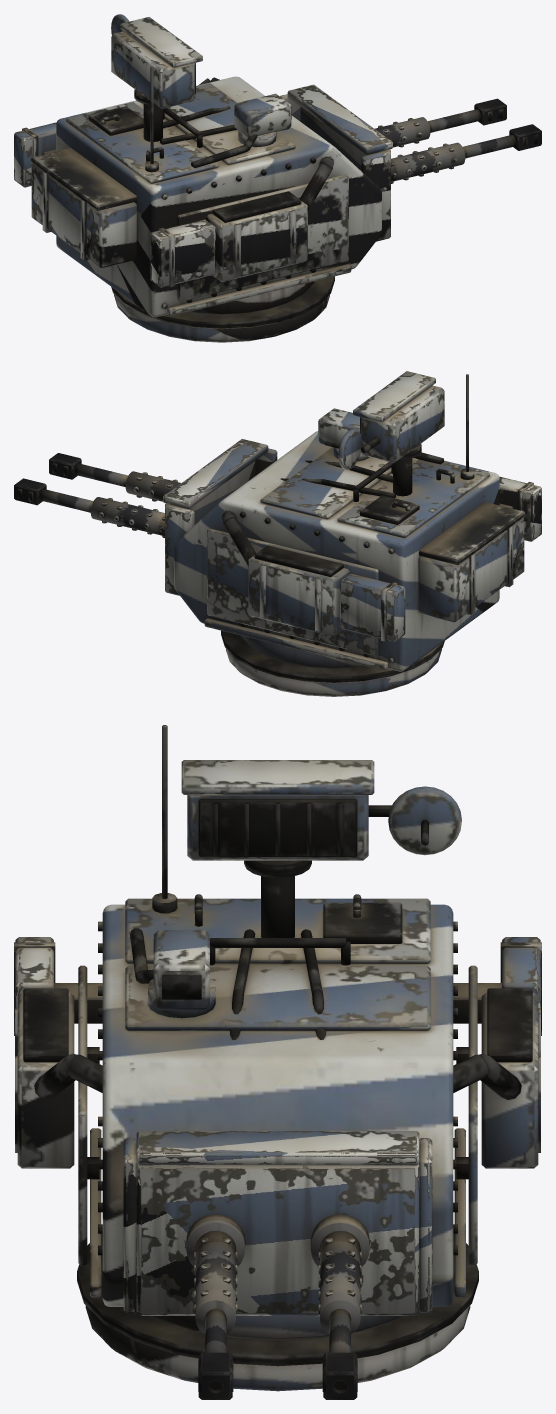
File: turret_grach_evo_dazzle.glb
3 renders of one model, top to bottom at view 1: azimuth 30°, elevation 25°; view 2: azimuth 150°, elevation 25°; view 3: azimuth 270°, elevation 25°, orthographic. The views are drawn at different scales.
Parts seen in each view (by area): view 1: turret_light_evo, guns, pods; view 2: turret_light_evo, guns, pods; view 3: turret_light_evo, guns, pods.
Boxes of the visible parts, left/top/right/bottom form: turret_light_evo: left=31, top=14, right=381, bottom=342; guns: left=280, top=84, right=541, bottom=241; pods: left=14, top=122, right=215, bottom=287; turret_light_evo: left=174, top=371, right=524, bottom=696; guns: left=14, top=439, right=277, bottom=595; pods: left=340, top=476, right=541, bottom=641; turret_light_evo: left=15, top=725, right=540, bottom=1391; guns: left=123, top=1131, right=432, bottom=1399; pods: left=14, top=937, right=541, bottom=1035.
Size of the model in its own units: 1.86 by 1.09 by 1.05.
3 materials, 3 textured.
